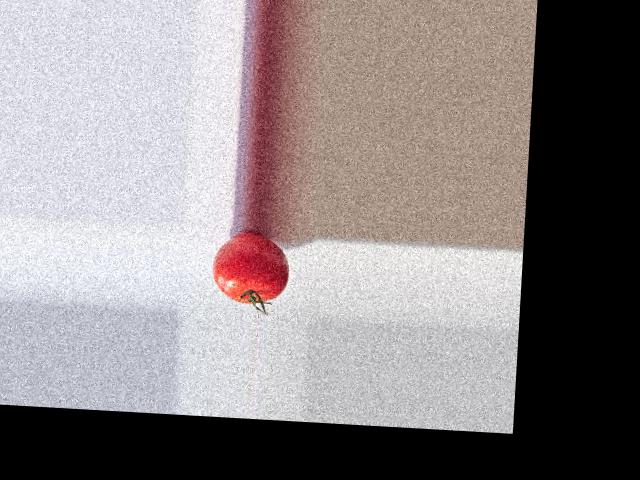tomato: (210, 230, 290, 304)
